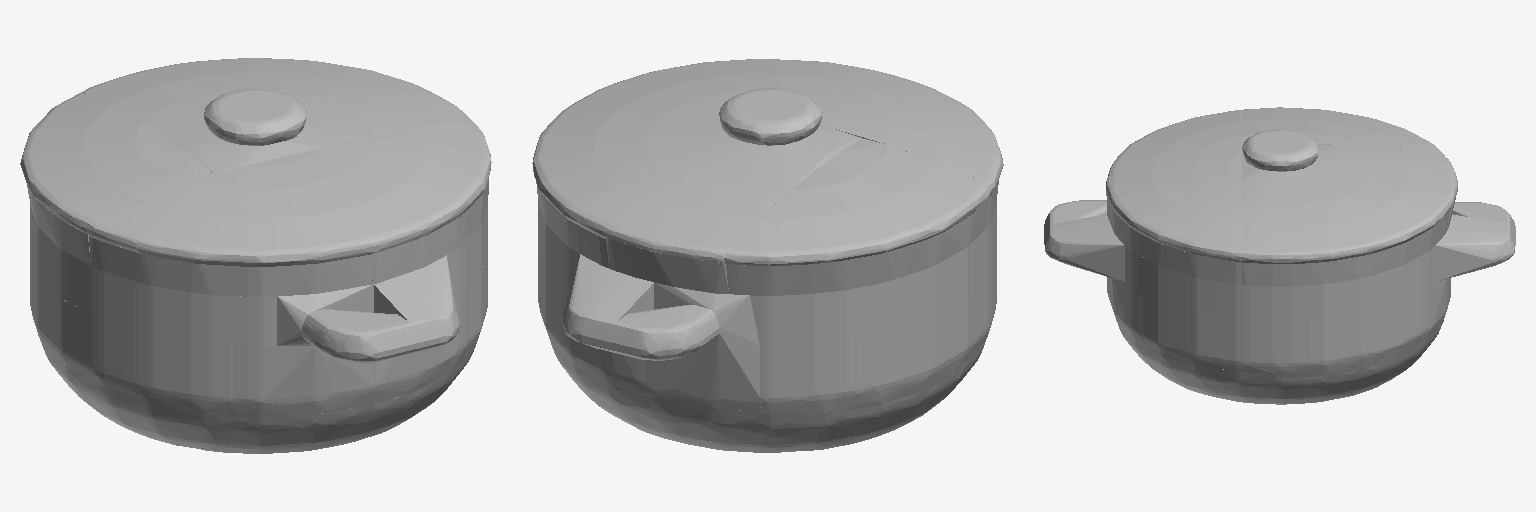
--- Facts derived from the render (not from the file) ---
Views: 3 orthographic renders of the robot side by side, from view 1: azimuth 30°, elevation 25°; view 2: azimuth 150°, elevation 25°; view 3: azimuth 270°, elevation 25°.
Model root with 44 links and 43 joints (43 fixed), rooted at link_coacd_convex_piece_0, posed all joints at 0.
Links seen in each view (by area): view 1: link_coacd_convex_piece_40, link_coacd_convex_piece_12, link_coacd_convex_piece_19, link_coacd_convex_piece_16, link_coacd_convex_piece_7, link_coacd_convex_piece_3, link_coacd_convex_piece_32, link_coacd_convex_piece_14, link_coacd_convex_piece_2, link_coacd_convex_piece_4, link_coacd_convex_piece_39, link_coacd_convex_piece_38 (+13 smaller); view 2: link_coacd_convex_piece_40, link_coacd_convex_piece_16, link_coacd_convex_piece_12, link_coacd_convex_piece_36, link_coacd_convex_piece_1, link_coacd_convex_piece_19, link_coacd_convex_piece_17, link_coacd_convex_piece_34, link_coacd_convex_piece_28, link_coacd_convex_piece_0, link_coacd_convex_piece_21, link_coacd_convex_piece_24 (+11 smaller); view 3: link_coacd_convex_piece_40, link_coacd_convex_piece_19, link_coacd_convex_piece_13, link_coacd_convex_piece_12, link_coacd_convex_piece_9, link_coacd_convex_piece_16, link_coacd_convex_piece_0, link_coacd_convex_piece_4, link_coacd_convex_piece_15, link_coacd_convex_piece_5, link_coacd_convex_piece_33, link_coacd_convex_piece_29 (+12 smaller).
Link boxes in pixels (x1,y1,x2,y2): link_coacd_convex_piece_40: (81, 58, 478, 174); link_coacd_convex_piece_12: (86, 157, 373, 266); link_coacd_convex_piece_19: (284, 127, 491, 253); link_coacd_convex_piece_16: (20, 93, 213, 233); link_coacd_convex_piece_7: (60, 298, 232, 411); link_coacd_convex_piece_3: (229, 345, 373, 416); link_coacd_convex_piece_32: (138, 282, 276, 345); link_coacd_convex_piece_14: (65, 366, 229, 448); link_coacd_convex_piece_2: (201, 405, 369, 453); link_coacd_convex_piece_4: (374, 255, 459, 353); link_coacd_convex_piece_39: (302, 309, 415, 362); link_coacd_convex_piece_38: (204, 89, 306, 145); link_coacd_convex_piece_40: (532, 89, 860, 262); link_coacd_convex_piece_16: (724, 138, 990, 265); link_coacd_convex_piece_12: (818, 73, 1003, 195); link_coacd_convex_piece_36: (645, 282, 761, 411); link_coacd_convex_piece_1: (846, 297, 965, 410); link_coacd_convex_piece_19: (599, 59, 882, 103); link_coacd_convex_piece_17: (647, 396, 847, 452); link_coacd_convex_piece_34: (750, 282, 885, 344); link_coacd_convex_piece_28: (760, 338, 853, 411); link_coacd_convex_piece_0: (562, 254, 653, 353); link_coacd_convex_piece_21: (726, 249, 898, 295); link_coacd_convex_piece_24: (611, 305, 719, 360); link_coacd_convex_piece_40: (1242, 144, 1457, 263); link_coacd_convex_piece_19: (1106, 167, 1241, 261); link_coacd_convex_piece_13: (1143, 295, 1279, 373); link_coacd_convex_piece_12: (1106, 110, 1241, 182); link_coacd_convex_piece_9: (1280, 310, 1379, 377); link_coacd_convex_piece_16: (1242, 107, 1444, 155); link_coacd_convex_piece_0: (1435, 214, 1515, 281); link_coacd_convex_piece_4: (1044, 214, 1124, 281); link_coacd_convex_piece_15: (1147, 346, 1279, 404); link_coacd_convex_piece_5: (1380, 278, 1450, 358); link_coacd_convex_piece_33: (1281, 277, 1367, 323); link_coacd_convex_piece_29: (1199, 279, 1280, 323).
Bounding box of the posed robot: 1.44 × 1.93 × 0.9341 m (x, y, z).
Meshes: 44 distinct files referenced, 44 mesh visuals loaded (44 OBJ).

robot.urdf — root:
<robot name="root">
  <link name="link_coacd_convex_piece_0">
    <inertial>
      <origin xyz="0 0 0" rpy="0 0 0"/>
      <inertia ixx="1.68E-03" ixy="-2.83E-04" ixz="-2.11E-05" iyy="7.98E-05" iyz="-1.17E-04" izz="1.73E-03"/>
    </inertial>
    <visual>
      <origin xyz="0 0 0" rpy="0 0 0"/>
      <geometry>
        <mesh filename="coacd_convex_piece_0.obj" scale="1.0000E+00 1.0000E+00 1.0000E+00"/>
      </geometry>
      <material name="">
        <color rgba="7.50E-01 7.50E-01 7.50E-01 1"/>
      </material>
    </visual>
    <collision>
      <origin xyz="0 0 0" rpy="0 0 0"/>
      <geometry>
        <mesh filename="coacd_convex_piece_0.obj" scale="1.0000E+00 1.0000E+00 1.0000E+00"/>
      </geometry>
    </collision>
  </link>
  <link name="link_coacd_convex_piece_1">
    <inertial>
      <origin xyz="0 0 0" rpy="0 0 0"/>
      <inertia ixx="2.07E-04" ixy="2.97E-04" ixz="-2.09E-04" iyy="8.99E-04" iyz="7.83E-05" izz="9.81E-04"/>
    </inertial>
    <visual>
      <origin xyz="0 0 0" rpy="0 0 0"/>
      <geometry>
        <mesh filename="coacd_convex_piece_1.obj" scale="1.0000E+00 1.0000E+00 1.0000E+00"/>
      </geometry>
      <material name="">
        <color rgba="7.50E-01 7.50E-01 7.50E-01 1"/>
      </material>
    </visual>
    <collision>
      <origin xyz="0 0 0" rpy="0 0 0"/>
      <geometry>
        <mesh filename="coacd_convex_piece_1.obj" scale="1.0000E+00 1.0000E+00 1.0000E+00"/>
      </geometry>
    </collision>
  </link>
  <joint name="link_coacd_convex_piece_1_joint" type="fixed">
    <origin xyz="0 0 0" rpy="0 0 0"/>
    <parent link="link_coacd_convex_piece_0"/>
    <child link="link_coacd_convex_piece_1"/>
  </joint>
  <link name="link_coacd_convex_piece_2">
    <inertial>
      <origin xyz="0 0 0" rpy="0 0 0"/>
      <inertia ixx="8.75E-04" ixy="-2.29E-04" ixz="-1.72E-04" iyy="4.23E-04" iyz="-4.02E-04" izz="7.09E-04"/>
    </inertial>
    <visual>
      <origin xyz="0 0 0" rpy="0 0 0"/>
      <geometry>
        <mesh filename="coacd_convex_piece_2.obj" scale="1.0000E+00 1.0000E+00 1.0000E+00"/>
      </geometry>
      <material name="">
        <color rgba="7.50E-01 7.50E-01 7.50E-01 1"/>
      </material>
    </visual>
    <collision>
      <origin xyz="0 0 0" rpy="0 0 0"/>
      <geometry>
        <mesh filename="coacd_convex_piece_2.obj" scale="1.0000E+00 1.0000E+00 1.0000E+00"/>
      </geometry>
    </collision>
  </link>
  <joint name="link_coacd_convex_piece_2_joint" type="fixed">
    <origin xyz="0 0 0" rpy="0 0 0"/>
    <parent link="link_coacd_convex_piece_1"/>
    <child link="link_coacd_convex_piece_2"/>
  </joint>
  <link name="link_coacd_convex_piece_3">
    <inertial>
      <origin xyz="0 0 0" rpy="0 0 0"/>
      <inertia ixx="8.59E-04" ixy="-2.71E-04" ixz="-6.80E-05" iyy="1.80E-04" iyz="-1.92E-04" izz="9.28E-04"/>
    </inertial>
    <visual>
      <origin xyz="0 0 0" rpy="0 0 0"/>
      <geometry>
        <mesh filename="coacd_convex_piece_3.obj" scale="1.0000E+00 1.0000E+00 1.0000E+00"/>
      </geometry>
      <material name="">
        <color rgba="7.50E-01 7.50E-01 7.50E-01 1"/>
      </material>
    </visual>
    <collision>
      <origin xyz="0 0 0" rpy="0 0 0"/>
      <geometry>
        <mesh filename="coacd_convex_piece_3.obj" scale="1.0000E+00 1.0000E+00 1.0000E+00"/>
      </geometry>
    </collision>
  </link>
  <joint name="link_coacd_convex_piece_3_joint" type="fixed">
    <origin xyz="0 0 0" rpy="0 0 0"/>
    <parent link="link_coacd_convex_piece_2"/>
    <child link="link_coacd_convex_piece_3"/>
  </joint>
  <link name="link_coacd_convex_piece_4">
    <inertial>
      <origin xyz="0 0 0" rpy="0 0 0"/>
      <inertia ixx="1.59E-03" ixy="2.61E-04" ixz="-1.98E-05" iyy="7.35E-05" iyz="1.13E-04" izz="1.64E-03"/>
    </inertial>
    <visual>
      <origin xyz="0 0 0" rpy="0 0 0"/>
      <geometry>
        <mesh filename="coacd_convex_piece_4.obj" scale="1.0000E+00 1.0000E+00 1.0000E+00"/>
      </geometry>
      <material name="">
        <color rgba="7.50E-01 7.50E-01 7.50E-01 1"/>
      </material>
    </visual>
    <collision>
      <origin xyz="0 0 0" rpy="0 0 0"/>
      <geometry>
        <mesh filename="coacd_convex_piece_4.obj" scale="1.0000E+00 1.0000E+00 1.0000E+00"/>
      </geometry>
    </collision>
  </link>
  <joint name="link_coacd_convex_piece_4_joint" type="fixed">
    <origin xyz="0 0 0" rpy="0 0 0"/>
    <parent link="link_coacd_convex_piece_3"/>
    <child link="link_coacd_convex_piece_4"/>
  </joint>
  <link name="link_coacd_convex_piece_5">
    <inertial>
      <origin xyz="0 0 0" rpy="0 0 0"/>
      <inertia ixx="1.00E-03" ixy="-4.60E-04" ixz="1.18E-04" iyy="3.70E-04" iyz="2.25E-04" izz="1.24E-03"/>
    </inertial>
    <visual>
      <origin xyz="0 0 0" rpy="0 0 0"/>
      <geometry>
        <mesh filename="coacd_convex_piece_5.obj" scale="1.0000E+00 1.0000E+00 1.0000E+00"/>
      </geometry>
      <material name="">
        <color rgba="7.50E-01 7.50E-01 7.50E-01 1"/>
      </material>
    </visual>
    <collision>
      <origin xyz="0 0 0" rpy="0 0 0"/>
      <geometry>
        <mesh filename="coacd_convex_piece_5.obj" scale="1.0000E+00 1.0000E+00 1.0000E+00"/>
      </geometry>
    </collision>
  </link>
  <joint name="link_coacd_convex_piece_5_joint" type="fixed">
    <origin xyz="0 0 0" rpy="0 0 0"/>
    <parent link="link_coacd_convex_piece_4"/>
    <child link="link_coacd_convex_piece_5"/>
  </joint>
  <link name="link_coacd_convex_piece_6">
    <inertial>
      <origin xyz="0 0 0" rpy="0 0 0"/>
      <inertia ixx="4.55E-04" ixy="2.44E-04" ixz="-4.14E-04" iyy="8.95E-04" iyz="1.89E-04" izz="7.29E-04"/>
    </inertial>
    <visual>
      <origin xyz="0 0 0" rpy="0 0 0"/>
      <geometry>
        <mesh filename="coacd_convex_piece_6.obj" scale="1.0000E+00 1.0000E+00 1.0000E+00"/>
      </geometry>
      <material name="">
        <color rgba="7.50E-01 7.50E-01 7.50E-01 1"/>
      </material>
    </visual>
    <collision>
      <origin xyz="0 0 0" rpy="0 0 0"/>
      <geometry>
        <mesh filename="coacd_convex_piece_6.obj" scale="1.0000E+00 1.0000E+00 1.0000E+00"/>
      </geometry>
    </collision>
  </link>
  <joint name="link_coacd_convex_piece_6_joint" type="fixed">
    <origin xyz="0 0 0" rpy="0 0 0"/>
    <parent link="link_coacd_convex_piece_5"/>
    <child link="link_coacd_convex_piece_6"/>
  </joint>
  <link name="link_coacd_convex_piece_7">
    <inertial>
      <origin xyz="0 0 0" rpy="0 0 0"/>
      <inertia ixx="3.55E-04" ixy="-4.47E-04" ixz="-2.38E-04" iyy="1.06E-03" iyz="-1.14E-04" izz="1.28E-03"/>
    </inertial>
    <visual>
      <origin xyz="0 0 0" rpy="0 0 0"/>
      <geometry>
        <mesh filename="coacd_convex_piece_7.obj" scale="1.0000E+00 1.0000E+00 1.0000E+00"/>
      </geometry>
      <material name="">
        <color rgba="7.50E-01 7.50E-01 7.50E-01 1"/>
      </material>
    </visual>
    <collision>
      <origin xyz="0 0 0" rpy="0 0 0"/>
      <geometry>
        <mesh filename="coacd_convex_piece_7.obj" scale="1.0000E+00 1.0000E+00 1.0000E+00"/>
      </geometry>
    </collision>
  </link>
  <joint name="link_coacd_convex_piece_7_joint" type="fixed">
    <origin xyz="0 0 0" rpy="0 0 0"/>
    <parent link="link_coacd_convex_piece_6"/>
    <child link="link_coacd_convex_piece_7"/>
  </joint>
  <link name="link_coacd_convex_piece_8">
    <inertial>
      <origin xyz="0 0 0" rpy="0 0 0"/>
      <inertia ixx="8.73E-04" ixy="2.79E-04" ixz="7.16E-05" iyy="1.88E-04" iyz="-1.99E-04" izz="9.44E-04"/>
    </inertial>
    <visual>
      <origin xyz="0 0 0" rpy="0 0 0"/>
      <geometry>
        <mesh filename="coacd_convex_piece_8.obj" scale="1.0000E+00 1.0000E+00 1.0000E+00"/>
      </geometry>
      <material name="">
        <color rgba="7.50E-01 7.50E-01 7.50E-01 1"/>
      </material>
    </visual>
    <collision>
      <origin xyz="0 0 0" rpy="0 0 0"/>
      <geometry>
        <mesh filename="coacd_convex_piece_8.obj" scale="1.0000E+00 1.0000E+00 1.0000E+00"/>
      </geometry>
    </collision>
  </link>
  <joint name="link_coacd_convex_piece_8_joint" type="fixed">
    <origin xyz="0 0 0" rpy="0 0 0"/>
    <parent link="link_coacd_convex_piece_7"/>
    <child link="link_coacd_convex_piece_8"/>
  </joint>
  <link name="link_coacd_convex_piece_9">
    <inertial>
      <origin xyz="0 0 0" rpy="0 0 0"/>
      <inertia ixx="1.76E-04" ixy="-2.61E-04" ixz="1.94E-04" iyy="8.35E-04" iyz="6.78E-05" izz="8.96E-04"/>
    </inertial>
    <visual>
      <origin xyz="0 0 0" rpy="0 0 0"/>
      <geometry>
        <mesh filename="coacd_convex_piece_9.obj" scale="1.0000E+00 1.0000E+00 1.0000E+00"/>
      </geometry>
      <material name="">
        <color rgba="7.50E-01 7.50E-01 7.50E-01 1"/>
      </material>
    </visual>
    <collision>
      <origin xyz="0 0 0" rpy="0 0 0"/>
      <geometry>
        <mesh filename="coacd_convex_piece_9.obj" scale="1.0000E+00 1.0000E+00 1.0000E+00"/>
      </geometry>
    </collision>
  </link>
  <joint name="link_coacd_convex_piece_9_joint" type="fixed">
    <origin xyz="0 0 0" rpy="0 0 0"/>
    <parent link="link_coacd_convex_piece_8"/>
    <child link="link_coacd_convex_piece_9"/>
  </joint>
  <link name="link_coacd_convex_piece_10">
    <inertial>
      <origin xyz="0 0 0" rpy="0 0 0"/>
      <inertia ixx="8.68E-04" ixy="2.31E-04" ixz="1.75E-04" iyy="4.25E-04" iyz="-3.99E-04" izz="7.04E-04"/>
    </inertial>
    <visual>
      <origin xyz="0 0 0" rpy="0 0 0"/>
      <geometry>
        <mesh filename="coacd_convex_piece_10.obj" scale="1.0000E+00 1.0000E+00 1.0000E+00"/>
      </geometry>
      <material name="">
        <color rgba="7.50E-01 7.50E-01 7.50E-01 1"/>
      </material>
    </visual>
    <collision>
      <origin xyz="0 0 0" rpy="0 0 0"/>
      <geometry>
        <mesh filename="coacd_convex_piece_10.obj" scale="1.0000E+00 1.0000E+00 1.0000E+00"/>
      </geometry>
    </collision>
  </link>
  <joint name="link_coacd_convex_piece_10_joint" type="fixed">
    <origin xyz="0 0 0" rpy="0 0 0"/>
    <parent link="link_coacd_convex_piece_9"/>
    <child link="link_coacd_convex_piece_10"/>
  </joint>
  <link name="link_coacd_convex_piece_11">
    <inertial>
      <origin xyz="0 0 0" rpy="0 0 0"/>
      <inertia ixx="8.60E-04" ixy="-2.73E-04" ixz="1.84E-04" iyy="4.26E-04" iyz="3.86E-04" izz="7.68E-04"/>
    </inertial>
    <visual>
      <origin xyz="0 0 0" rpy="0 0 0"/>
      <geometry>
        <mesh filename="coacd_convex_piece_11.obj" scale="1.0000E+00 1.0000E+00 1.0000E+00"/>
      </geometry>
      <material name="">
        <color rgba="7.50E-01 7.50E-01 7.50E-01 1"/>
      </material>
    </visual>
    <collision>
      <origin xyz="0 0 0" rpy="0 0 0"/>
      <geometry>
        <mesh filename="coacd_convex_piece_11.obj" scale="1.0000E+00 1.0000E+00 1.0000E+00"/>
      </geometry>
    </collision>
  </link>
  <joint name="link_coacd_convex_piece_11_joint" type="fixed">
    <origin xyz="0 0 0" rpy="0 0 0"/>
    <parent link="link_coacd_convex_piece_10"/>
    <child link="link_coacd_convex_piece_11"/>
  </joint>
  <link name="link_coacd_convex_piece_12">
    <inertial>
      <origin xyz="0 0 0" rpy="0 0 0"/>
      <inertia ixx="1.11E-03" ixy="-4.45E-04" ixz="3.64E-04" iyy="8.69E-04" iyz="4.91E-04" izz="1.23E-03"/>
    </inertial>
    <visual>
      <origin xyz="0 0 0" rpy="0 0 0"/>
      <geometry>
        <mesh filename="coacd_convex_piece_12.obj" scale="1.0000E+00 1.0000E+00 1.0000E+00"/>
      </geometry>
      <material name="">
        <color rgba="7.50E-01 7.50E-01 7.50E-01 1"/>
      </material>
    </visual>
    <collision>
      <origin xyz="0 0 0" rpy="0 0 0"/>
      <geometry>
        <mesh filename="coacd_convex_piece_12.obj" scale="1.0000E+00 1.0000E+00 1.0000E+00"/>
      </geometry>
    </collision>
  </link>
  <joint name="link_coacd_convex_piece_12_joint" type="fixed">
    <origin xyz="0 0 0" rpy="0 0 0"/>
    <parent link="link_coacd_convex_piece_11"/>
    <child link="link_coacd_convex_piece_12"/>
  </joint>
  <link name="link_coacd_convex_piece_13">
    <inertial>
      <origin xyz="0 0 0" rpy="0 0 0"/>
      <inertia ixx="3.55E-04" ixy="4.49E-04" ixz="2.38E-04" iyy="1.07E-03" iyz="-1.14E-04" izz="1.29E-03"/>
    </inertial>
    <visual>
      <origin xyz="0 0 0" rpy="0 0 0"/>
      <geometry>
        <mesh filename="coacd_convex_piece_13.obj" scale="1.0000E+00 1.0000E+00 1.0000E+00"/>
      </geometry>
      <material name="">
        <color rgba="7.50E-01 7.50E-01 7.50E-01 1"/>
      </material>
    </visual>
    <collision>
      <origin xyz="0 0 0" rpy="0 0 0"/>
      <geometry>
        <mesh filename="coacd_convex_piece_13.obj" scale="1.0000E+00 1.0000E+00 1.0000E+00"/>
      </geometry>
    </collision>
  </link>
  <joint name="link_coacd_convex_piece_13_joint" type="fixed">
    <origin xyz="0 0 0" rpy="0 0 0"/>
    <parent link="link_coacd_convex_piece_12"/>
    <child link="link_coacd_convex_piece_13"/>
  </joint>
  <link name="link_coacd_convex_piece_14">
    <inertial>
      <origin xyz="0 0 0" rpy="0 0 0"/>
      <inertia ixx="4.28E-04" ixy="-2.64E-04" ixz="-4.12E-04" iyy="9.22E-04" iyz="-1.75E-04" izz="8.02E-04"/>
    </inertial>
    <visual>
      <origin xyz="0 0 0" rpy="0 0 0"/>
      <geometry>
        <mesh filename="coacd_convex_piece_14.obj" scale="1.0000E+00 1.0000E+00 1.0000E+00"/>
      </geometry>
      <material name="">
        <color rgba="7.50E-01 7.50E-01 7.50E-01 1"/>
      </material>
    </visual>
    <collision>
      <origin xyz="0 0 0" rpy="0 0 0"/>
      <geometry>
        <mesh filename="coacd_convex_piece_14.obj" scale="1.0000E+00 1.0000E+00 1.0000E+00"/>
      </geometry>
    </collision>
  </link>
  <joint name="link_coacd_convex_piece_14_joint" type="fixed">
    <origin xyz="0 0 0" rpy="0 0 0"/>
    <parent link="link_coacd_convex_piece_13"/>
    <child link="link_coacd_convex_piece_14"/>
  </joint>
  <link name="link_coacd_convex_piece_15">
    <inertial>
      <origin xyz="0 0 0" rpy="0 0 0"/>
      <inertia ixx="4.31E-04" ixy="2.67E-04" ixz="4.18E-04" iyy="9.37E-04" iyz="-1.76E-04" izz="8.15E-04"/>
    </inertial>
    <visual>
      <origin xyz="0 0 0" rpy="0 0 0"/>
      <geometry>
        <mesh filename="coacd_convex_piece_15.obj" scale="1.0000E+00 1.0000E+00 1.0000E+00"/>
      </geometry>
      <material name="">
        <color rgba="7.50E-01 7.50E-01 7.50E-01 1"/>
      </material>
    </visual>
    <collision>
      <origin xyz="0 0 0" rpy="0 0 0"/>
      <geometry>
        <mesh filename="coacd_convex_piece_15.obj" scale="1.0000E+00 1.0000E+00 1.0000E+00"/>
      </geometry>
    </collision>
  </link>
  <joint name="link_coacd_convex_piece_15_joint" type="fixed">
    <origin xyz="0 0 0" rpy="0 0 0"/>
    <parent link="link_coacd_convex_piece_14"/>
    <child link="link_coacd_convex_piece_15"/>
  </joint>
  <link name="link_coacd_convex_piece_16">
    <inertial>
      <origin xyz="0 0 0" rpy="0 0 0"/>
      <inertia ixx="7.52E-04" ixy="3.52E-04" ixz="5.85E-04" iyy="1.34E-03" iyz="-2.53E-04" izz="1.31E-03"/>
    </inertial>
    <visual>
      <origin xyz="0 0 0" rpy="0 0 0"/>
      <geometry>
        <mesh filename="coacd_convex_piece_16.obj" scale="1.0000E+00 1.0000E+00 1.0000E+00"/>
      </geometry>
      <material name="">
        <color rgba="7.50E-01 7.50E-01 7.50E-01 1"/>
      </material>
    </visual>
    <collision>
      <origin xyz="0 0 0" rpy="0 0 0"/>
      <geometry>
        <mesh filename="coacd_convex_piece_16.obj" scale="1.0000E+00 1.0000E+00 1.0000E+00"/>
      </geometry>
    </collision>
  </link>
  <joint name="link_coacd_convex_piece_16_joint" type="fixed">
    <origin xyz="0 0 0" rpy="0 0 0"/>
    <parent link="link_coacd_convex_piece_15"/>
    <child link="link_coacd_convex_piece_16"/>
  </joint>
  <link name="link_coacd_convex_piece_17">
    <inertial>
      <origin xyz="0 0 0" rpy="0 0 0"/>
      <inertia ixx="1.00E-03" ixy="2.52E-04" ixz="-1.64E-04" iyy="4.30E-04" iyz="4.46E-04" izz="8.52E-04"/>
    </inertial>
    <visual>
      <origin xyz="0 0 0" rpy="0 0 0"/>
      <geometry>
        <mesh filename="coacd_convex_piece_17.obj" scale="1.0000E+00 1.0000E+00 1.0000E+00"/>
      </geometry>
      <material name="">
        <color rgba="7.50E-01 7.50E-01 7.50E-01 1"/>
      </material>
    </visual>
    <collision>
      <origin xyz="0 0 0" rpy="0 0 0"/>
      <geometry>
        <mesh filename="coacd_convex_piece_17.obj" scale="1.0000E+00 1.0000E+00 1.0000E+00"/>
      </geometry>
    </collision>
  </link>
  <joint name="link_coacd_convex_piece_17_joint" type="fixed">
    <origin xyz="0 0 0" rpy="0 0 0"/>
    <parent link="link_coacd_convex_piece_16"/>
    <child link="link_coacd_convex_piece_17"/>
  </joint>
  <link name="link_coacd_convex_piece_18">
    <inertial>
      <origin xyz="0 0 0" rpy="0 0 0"/>
      <inertia ixx="3.93E-04" ixy="-2.13E-04" ixz="3.80E-04" iyy="8.27E-04" iyz="1.59E-04" izz="6.65E-04"/>
    </inertial>
    <visual>
      <origin xyz="0 0 0" rpy="0 0 0"/>
      <geometry>
        <mesh filename="coacd_convex_piece_18.obj" scale="1.0000E+00 1.0000E+00 1.0000E+00"/>
      </geometry>
      <material name="">
        <color rgba="7.50E-01 7.50E-01 7.50E-01 1"/>
      </material>
    </visual>
    <collision>
      <origin xyz="0 0 0" rpy="0 0 0"/>
      <geometry>
        <mesh filename="coacd_convex_piece_18.obj" scale="1.0000E+00 1.0000E+00 1.0000E+00"/>
      </geometry>
    </collision>
  </link>
  <joint name="link_coacd_convex_piece_18_joint" type="fixed">
    <origin xyz="0 0 0" rpy="0 0 0"/>
    <parent link="link_coacd_convex_piece_17"/>
    <child link="link_coacd_convex_piece_18"/>
  </joint>
  <link name="link_coacd_convex_piece_19">
    <inertial>
      <origin xyz="0 0 0" rpy="0 0 0"/>
      <inertia ixx="1.09E-03" ixy="4.30E-04" ixz="-3.53E-04" iyy="8.46E-04" iyz="4.83E-04" izz="1.19E-03"/>
    </inertial>
    <visual>
      <origin xyz="0 0 0" rpy="0 0 0"/>
      <geometry>
        <mesh filename="coacd_convex_piece_19.obj" scale="1.0000E+00 1.0000E+00 1.0000E+00"/>
      </geometry>
      <material name="">
        <color rgba="7.50E-01 7.50E-01 7.50E-01 1"/>
      </material>
    </visual>
    <collision>
      <origin xyz="0 0 0" rpy="0 0 0"/>
      <geometry>
        <mesh filename="coacd_convex_piece_19.obj" scale="1.0000E+00 1.0000E+00 1.0000E+00"/>
      </geometry>
    </collision>
  </link>
  <joint name="link_coacd_convex_piece_19_joint" type="fixed">
    <origin xyz="0 0 0" rpy="0 0 0"/>
    <parent link="link_coacd_convex_piece_18"/>
    <child link="link_coacd_convex_piece_19"/>
  </joint>
  <link name="link_coacd_convex_piece_20">
    <inertial>
      <origin xyz="0 0 0" rpy="0 0 0"/>
      <inertia ixx="2.19E-04" ixy="-1.87E-04" ixz="-2.36E-05" iyy="1.83E-04" iyz="-2.59E-05" izz="3.93E-04"/>
    </inertial>
    <visual>
      <origin xyz="0 0 0" rpy="0 0 0"/>
      <geometry>
        <mesh filename="coacd_convex_piece_20.obj" scale="1.0000E+00 1.0000E+00 1.0000E+00"/>
      </geometry>
      <material name="">
        <color rgba="7.50E-01 7.50E-01 7.50E-01 1"/>
      </material>
    </visual>
    <collision>
      <origin xyz="0 0 0" rpy="0 0 0"/>
      <geometry>
        <mesh filename="coacd_convex_piece_20.obj" scale="1.0000E+00 1.0000E+00 1.0000E+00"/>
      </geometry>
    </collision>
  </link>
  <joint name="link_coacd_convex_piece_20_joint" type="fixed">
    <origin xyz="0 0 0" rpy="0 0 0"/>
    <parent link="link_coacd_convex_piece_19"/>
    <child link="link_coacd_convex_piece_20"/>
  </joint>
  <link name="link_coacd_convex_piece_21">
    <inertial>
      <origin xyz="0 0 0" rpy="0 0 0"/>
      <inertia ixx="3.13E-04" ixy="2.20E-04" ixz="9.39E-05" iyy="2.56E-04" iyz="-1.07E-04" izz="4.81E-04"/>
    </inertial>
    <visual>
      <origin xyz="0 0 0" rpy="0 0 0"/>
      <geometry>
        <mesh filename="coacd_convex_piece_21.obj" scale="1.0000E+00 1.0000E+00 1.0000E+00"/>
      </geometry>
      <material name="">
        <color rgba="7.50E-01 7.50E-01 7.50E-01 1"/>
      </material>
    </visual>
    <collision>
      <origin xyz="0 0 0" rpy="0 0 0"/>
      <geometry>
        <mesh filename="coacd_convex_piece_21.obj" scale="1.0000E+00 1.0000E+00 1.0000E+00"/>
      </geometry>
    </collision>
  </link>
  <joint name="link_coacd_convex_piece_21_joint" type="fixed">
    <origin xyz="0 0 0" rpy="0 0 0"/>
    <parent link="link_coacd_convex_piece_20"/>
    <child link="link_coacd_convex_piece_21"/>
  </joint>
  <link name="link_coacd_convex_piece_22">
    <inertial>
      <origin xyz="0 0 0" rpy="0 0 0"/>
      <inertia ixx="2.32E-04" ixy="2.03E-04" ixz="-2.63E-05" iyy="2.07E-04" iyz="2.80E-05" izz="4.29E-04"/>
    </inertial>
    <visual>
      <origin xyz="0 0 0" rpy="0 0 0"/>
      <geometry>
        <mesh filename="coacd_convex_piece_22.obj" scale="1.0000E+00 1.0000E+00 1.0000E+00"/>
      </geometry>
      <material name="">
        <color rgba="7.50E-01 7.50E-01 7.50E-01 1"/>
      </material>
    </visual>
    <collision>
      <origin xyz="0 0 0" rpy="0 0 0"/>
      <geometry>
        <mesh filename="coacd_convex_piece_22.obj" scale="1.0000E+00 1.0000E+00 1.0000E+00"/>
      </geometry>
    </collision>
  </link>
  <joint name="link_coacd_convex_piece_22_joint" type="fixed">
    <origin xyz="0 0 0" rpy="0 0 0"/>
    <parent link="link_coacd_convex_piece_21"/>
    <child link="link_coacd_convex_piece_22"/>
  </joint>
  <link name="link_coacd_convex_piece_23">
    <inertial>
      <origin xyz="0 0 0" rpy="0 0 0"/>
      <inertia ixx="1.60E-04" ixy="1.69E-04" ixz="-9.64E-05" iyy="3.05E-04" iyz="6.35E-05" izz="3.95E-04"/>
    </inertial>
    <visual>
      <origin xyz="0 0 0" rpy="0 0 0"/>
      <geometry>
        <mesh filename="coacd_convex_piece_23.obj" scale="1.0000E+00 1.0000E+00 1.0000E+00"/>
      </geometry>
      <material name="">
        <color rgba="7.50E-01 7.50E-01 7.50E-01 1"/>
      </material>
    </visual>
    <collision>
      <origin xyz="0 0 0" rpy="0 0 0"/>
      <geometry>
        <mesh filename="coacd_convex_piece_23.obj" scale="1.0000E+00 1.0000E+00 1.0000E+00"/>
      </geometry>
    </collision>
  </link>
  <joint name="link_coacd_convex_piece_23_joint" type="fixed">
    <origin xyz="0 0 0" rpy="0 0 0"/>
    <parent link="link_coacd_convex_piece_22"/>
    <child link="link_coacd_convex_piece_23"/>
  </joint>
  <link name="link_coacd_convex_piece_24">
    <inertial>
      <origin xyz="0 0 0" rpy="0 0 0"/>
      <inertia ixx="8.73E-04" ixy="1.16E-04" ixz="6.59E-06" iyy="2.33E-05" iyz="-4.75E-05" izz="8.91E-04"/>
    </inertial>
    <visual>
      <origin xyz="0 0 0" rpy="0 0 0"/>
      <geometry>
        <mesh filename="coacd_convex_piece_24.obj" scale="1.0000E+00 1.0000E+00 1.0000E+00"/>
      </geometry>
      <material name="">
        <color rgba="7.50E-01 7.50E-01 7.50E-01 1"/>
      </material>
    </visual>
    <collision>
      <origin xyz="0 0 0" rpy="0 0 0"/>
      <geometry>
        <mesh filename="coacd_convex_piece_24.obj" scale="1.0000E+00 1.0000E+00 1.0000E+00"/>
      </geometry>
    </collision>
  </link>
  <joint name="link_coacd_convex_piece_24_joint" type="fixed">
    <origin xyz="0 0 0" rpy="0 0 0"/>
    <parent link="link_coacd_convex_piece_23"/>
    <child link="link_coacd_convex_piece_24"/>
  </joint>
  <link name="link_coacd_convex_piece_25">
    <inertial>
      <origin xyz="0 0 0" rpy="0 0 0"/>
      <inertia ixx="2.84E-05" ixy="-7.27E-05" ixz="2.48E-05" iyy="2.64E-04" iyz="7.09E-06" izz="2.86E-04"/>
    </inertial>
    <visual>
      <origin xyz="0 0 0" rpy="0 0 0"/>
      <geometry>
        <mesh filename="coacd_convex_piece_25.obj" scale="1.0000E+00 1.0000E+00 1.0000E+00"/>
      </geometry>
      <material name="">
        <color rgba="7.50E-01 7.50E-01 7.50E-01 1"/>
      </material>
    </visual>
    <collision>
      <origin xyz="0 0 0" rpy="0 0 0"/>
      <geometry>
        <mesh filename="coacd_convex_piece_25.obj" scale="1.0000E+00 1.0000E+00 1.0000E+00"/>
      </geometry>
    </collision>
  </link>
  <joint name="link_coacd_convex_piece_25_joint" type="fixed">
    <origin xyz="0 0 0" rpy="0 0 0"/>
    <parent link="link_coacd_convex_piece_24"/>
    <child link="link_coacd_convex_piece_25"/>
  </joint>
  <link name="link_coacd_convex_piece_26">
    <inertial>
      <origin xyz="0 0 0" rpy="0 0 0"/>
      <inertia ixx="3.47E-05" ixy="8.66E-05" ixz="3.44E-05" iyy="3.68E-04" iyz="-8.33E-06" izz="3.93E-04"/>
    </inertial>
    <visual>
      <origin xyz="0 0 0" rpy="0 0 0"/>
      <geometry>
        <mesh filename="coacd_convex_piece_26.obj" scale="1.0000E+00 1.0000E+00 1.0000E+00"/>
      </geometry>
      <material name="">
        <color rgba="7.50E-01 7.50E-01 7.50E-01 1"/>
      </material>
    </visual>
    <collision>
      <origin xyz="0 0 0" rpy="0 0 0"/>
      <geometry>
        <mesh filename="coacd_convex_piece_26.obj" scale="1.0000E+00 1.0000E+00 1.0000E+00"/>
      </geometry>
    </collision>
  </link>
  <joint name="link_coacd_convex_piece_26_joint" type="fixed">
    <origin xyz="0 0 0" rpy="0 0 0"/>
    <parent link="link_coacd_convex_piece_25"/>
    <child link="link_coacd_convex_piece_26"/>
  </joint>
  <link name="link_coacd_convex_piece_27">
    <inertial>
      <origin xyz="0 0 0" rpy="0 0 0"/>
      <inertia ixx="3.08E-04" ixy="-8.77E-05" ixz="2.86E-05" iyy="6.48E-05" iyz="8.84E-05" izz="3.17E-04"/>
    </inertial>
    <visual>
      <origin xyz="0 0 0" rpy="0 0 0"/>
      <geometry>
        <mesh filename="coacd_convex_piece_27.obj" scale="1.0000E+00 1.0000E+00 1.0000E+00"/>
      </geometry>
      <material name="">
        <color rgba="7.50E-01 7.50E-01 7.50E-01 1"/>
      </material>
    </visual>
    <collision>
      <origin xyz="0 0 0" rpy="0 0 0"/>
      <geometry>
        <mesh filename="coacd_convex_piece_27.obj" scale="1.0000E+00 1.0000E+00 1.0000E+00"/>
      </geometry>
    </collision>
  </link>
  <joint name="link_coacd_convex_piece_27_joint" type="fixed">
    <origin xyz="0 0 0" rpy="0 0 0"/>
    <parent link="link_coacd_convex_piece_26"/>
    <child link="link_coacd_convex_piece_27"/>
  </joint>
  <link name="link_coacd_convex_piece_28">
    <inertial>
      <origin xyz="0 0 0" rpy="0 0 0"/>
      <inertia ixx="2.17E-04" ixy="1.62E-04" ixz="-4.42E-05" iyy="1.55E-04" iyz="5.36E-05" izz="3.39E-04"/>
    </inertial>
    <visual>
      <origin xyz="0 0 0" rpy="0 0 0"/>
      <geometry>
        <mesh filename="coacd_convex_piece_28.obj" scale="1.0000E+00 1.0000E+00 1.0000E+00"/>
      </geometry>
      <material name="">
        <color rgba="7.50E-01 7.50E-01 7.50E-01 1"/>
      </material>
    </visual>
    <collision>
      <origin xyz="0 0 0" rpy="0 0 0"/>
      <geometry>
        <mesh filename="coacd_convex_piece_28.obj" scale="1.0000E+00 1.0000E+00 1.0000E+00"/>
      </geometry>
    </collision>
  </link>
  <joint name="link_coacd_convex_piece_28_joint" type="fixed">
    <origin xyz="0 0 0" rpy="0 0 0"/>
    <parent link="link_coacd_convex_piece_27"/>
    <child link="link_coacd_convex_piece_28"/>
  </joint>
  <link name="link_coacd_convex_piece_29">
    <inertial>
      <origin xyz="0 0 0" rpy="0 0 0"/>
      <inertia ixx="3.00E-05" ixy="7.69E-05" ixz="-2.82E-05" iyy="3.04E-04" iyz="7.47E-06" izz="3.27E-04"/>
    </inertial>
    <visual>
      <origin xyz="0 0 0" rpy="0 0 0"/>
      <geometry>
        <mesh filename="coacd_convex_piece_29.obj" scale="1.0000E+00 1.0000E+00 1.0000E+00"/>
      </geometry>
      <material name="">
        <color rgba="7.50E-01 7.50E-01 7.50E-01 1"/>
      </material>
    </visual>
    <collision>
      <origin xyz="0 0 0" rpy="0 0 0"/>
      <geometry>
        <mesh filename="coacd_convex_piece_29.obj" scale="1.0000E+00 1.0000E+00 1.0000E+00"/>
      </geometry>
    </collision>
  </link>
  <joint name="link_coacd_convex_piece_29_joint" type="fixed">
    <origin xyz="0 0 0" rpy="0 0 0"/>
    <parent link="link_coacd_convex_piece_28"/>
    <child link="link_coacd_convex_piece_29"/>
  </joint>
  <link name="link_coacd_convex_piece_30">
    <inertial>
      <origin xyz="0 0 0" rpy="0 0 0"/>
      <inertia ixx="3.82E-04" ixy="-9.14E-05" ixz="8.28E-06" iyy="3.22E-05" iyz="3.39E-05" izz="4.06E-04"/>
    </inertial>
    <visual>
      <origin xyz="0 0 0" rpy="0 0 0"/>
      <geometry>
        <mesh filename="coacd_convex_piece_30.obj" scale="1.0000E+00 1.0000E+00 1.0000E+00"/>
      </geometry>
      <material name="">
        <color rgba="7.50E-01 7.50E-01 7.50E-01 1"/>
      </material>
    </visual>
    <collision>
      <origin xyz="0 0 0" rpy="0 0 0"/>
      <geometry>
        <mesh filename="coacd_convex_piece_30.obj" scale="1.0000E+00 1.0000E+00 1.0000E+00"/>
      </geometry>
    </collision>
  </link>
  <joint name="link_coacd_convex_piece_30_joint" type="fixed">
    <origin xyz="0 0 0" rpy="0 0 0"/>
    <parent link="link_coacd_convex_piece_29"/>
    <child link="link_coacd_convex_piece_30"/>
  </joint>
  <link name="link_coacd_convex_piece_31">
    <inertial>
      <origin xyz="0 0 0" rpy="0 0 0"/>
      <inertia ixx="3.57E-04" ixy="1.06E-04" ixz="-3.50E-05" iyy="8.04E-05" iyz="1.04E-04" izz="3.71E-04"/>
    </inertial>
    <visual>
      <origin xyz="0 0 0" rpy="0 0 0"/>
      <geometry>
        <mesh filename="coacd_convex_piece_31.obj" scale="1.0000E+00 1.0000E+00 1.0000E+00"/>
      </geometry>
      <material name="">
        <color rgba="7.50E-01 7.50E-01 7.50E-01 1"/>
      </material>
    </visual>
    <collision>
      <origin xyz="0 0 0" rpy="0 0 0"/>
      <geometry>
        <mesh filename="coacd_convex_piece_31.obj" scale="1.0000E+00 1.0000E+00 1.0000E+00"/>
      </geometry>
    </collision>
  </link>
  <joint name="link_coacd_convex_piece_31_joint" type="fixed">
    <origin xyz="0 0 0" rpy="0 0 0"/>
    <parent link="link_coacd_convex_piece_30"/>
    <child link="link_coacd_convex_piece_31"/>
  </joint>
  <link name="link_coacd_convex_piece_32">
    <inertial>
      <origin xyz="0 0 0" rpy="0 0 0"/>
      <inertia ixx="2.30E-04" ixy="-2.01E-04" ixz="2.62E-05" iyy="2.05E-04" iyz="2.79E-05" izz="4.25E-04"/>
    </inertial>
    <visual>
      <origin xyz="0 0 0" rpy="0 0 0"/>
      <geometry>
        <mesh filename="coacd_convex_piece_32.obj" scale="1.0000E+00 1.0000E+00 1.0000E+00"/>
      </geometry>
      <material name="">
        <color rgba="7.50E-01 7.50E-01 7.50E-01 1"/>
      </material>
    </visual>
    <collision>
      <origin xyz="0 0 0" rpy="0 0 0"/>
      <geometry>
        <mesh filename="coacd_convex_piece_32.obj" scale="1.0000E+00 1.0000E+00 1.0000E+00"/>
      </geometry>
    </collision>
  </link>
  <joint name="link_coacd_convex_piece_32_joint" type="fixed">
    <origin xyz="0 0 0" rpy="0 0 0"/>
    <parent link="link_coacd_convex_piece_31"/>
    <child link="link_coacd_convex_piece_32"/>
  </joint>
  <link name="link_coacd_convex_piece_33">
    <inertial>
      <origin xyz="0 0 0" rpy="0 0 0"/>
      <inertia ixx="4.07E-05" ixy="-9.64E-05" ixz="-3.18E-05" iyy="3.39E-04" iyz="-9.32E-06" izz="3.71E-04"/>
    </inertial>
    <visual>
      <origin xyz="0 0 0" rpy="0 0 0"/>
      <geometry>
        <mesh filename="coacd_convex_piece_33.obj" scale="1.0000E+00 1.0000E+00 1.0000E+00"/>
      </geometry>
      <material name="">
        <color rgba="7.50E-01 7.50E-01 7.50E-01 1"/>
      </material>
    </visual>
    <collision>
      <origin xyz="0 0 0" rpy="0 0 0"/>
      <geometry>
        <mesh filename="coacd_convex_piece_33.obj" scale="1.0000E+00 1.0000E+00 1.0000E+00"/>
      </geometry>
    </collision>
  </link>
  <joint name="link_coacd_convex_piece_33_joint" type="fixed">
    <origin xyz="0 0 0" rpy="0 0 0"/>
    <parent link="link_coacd_convex_piece_32"/>
    <child link="link_coacd_convex_piece_33"/>
  </joint>
  <link name="link_coacd_convex_piece_34">
    <inertial>
      <origin xyz="0 0 0" rpy="0 0 0"/>
      <inertia ixx="2.28E-04" ixy="1.98E-04" ixz="2.56E-05" iyy="1.99E-04" iyz="-2.74E-05" izz="4.18E-04"/>
    </inertial>
    <visual>
      <origin xyz="0 0 0" rpy="0 0 0"/>
      <geometry>
        <mesh filename="coacd_convex_piece_34.obj" scale="1.0000E+00 1.0000E+00 1.0000E+00"/>
      </geometry>
      <material name="">
        <color rgba="7.50E-01 7.50E-01 7.50E-01 1"/>
      </material>
    </visual>
    <collision>
      <origin xyz="0 0 0" rpy="0 0 0"/>
      <geometry>
        <mesh filename="coacd_convex_piece_34.obj" scale="1.0000E+00 1.0000E+00 1.0000E+00"/>
      </geometry>
    </collision>
  </link>
  <joint name="link_coacd_convex_piece_34_joint" type="fixed">
    <origin xyz="0 0 0" rpy="0 0 0"/>
    <parent link="link_coacd_convex_piece_33"/>
    <child link="link_coacd_convex_piece_34"/>
  </joint>
  <link name="link_coacd_convex_piece_35">
    <inertial>
      <origin xyz="0 0 0" rpy="0 0 0"/>
      <inertia ixx="6.46E-05" ixy="5.38E-05" ixz="1.33E-04" iyy="4.71E-04" iyz="-1.72E-05" izz="4.53E-04"/>
    </inertial>
    <visual>
      <origin xyz="0 0 0" rpy="0 0 0"/>
      <geometry>
        <mesh filename="coacd_convex_piece_35.obj" scale="1.0000E+00 1.0000E+00 1.0000E+00"/>
      </geometry>
      <material name="">
        <color rgba="7.50E-01 7.50E-01 7.50E-01 1"/>
      </material>
    </visual>
    <collision>
      <origin xyz="0 0 0" rpy="0 0 0"/>
      <geometry>
        <mesh filename="coacd_convex_piece_35.obj" scale="1.0000E+00 1.0000E+00 1.0000E+00"/>
      </geometry>
    </collision>
  </link>
  <joint name="link_coacd_convex_piece_35_joint" type="fixed">
    <origin xyz="0 0 0" rpy="0 0 0"/>
    <parent link="link_coacd_convex_piece_34"/>
    <child link="link_coacd_convex_piece_35"/>
  </joint>
  <link name="link_coacd_convex_piece_36">
    <inertial>
      <origin xyz="0 0 0" rpy="0 0 0"/>
      <inertia ixx="1.10E-03" ixy="2.56E-04" ixz="-2.36E-05" iyy="1.24E-04" iyz="9.98E-05" izz="1.15E-03"/>
    </inertial>
    <visual>
      <origin xyz="0 0 0" rpy="0 0 0"/>
      <geometry>
        <mesh filename="coacd_convex_piece_36.obj" scale="1.0000E+00 1.0000E+00 1.0000E+00"/>
      </geometry>
      <material name="">
        <color rgba="7.50E-01 7.50E-01 7.50E-01 1"/>
      </material>
    </visual>
    <collision>
      <origin xyz="0 0 0" rpy="0 0 0"/>
      <geometry>
        <mesh filename="coacd_convex_piece_36.obj" scale="1.0000E+00 1.0000E+00 1.0000E+00"/>
      </geometry>
    </collision>
  </link>
  <joint name="link_coacd_convex_piece_36_joint" type="fixed">
    <origin xyz="0 0 0" rpy="0 0 0"/>
    <parent link="link_coacd_convex_piece_35"/>
    <child link="link_coacd_convex_piece_36"/>
  </joint>
  <link name="link_coacd_convex_piece_37">
    <inertial>
      <origin xyz="0 0 0" rpy="0 0 0"/>
      <inertia ixx="1.75E-04" ixy="-1.80E-04" ixz="1.01E-04" iyy="3.17E-04" iyz="6.88E-05" izz="4.18E-04"/>
    </inertial>
    <visual>
      <origin xyz="0 0 0" rpy="0 0 0"/>
      <geometry>
        <mesh filename="coacd_convex_piece_37.obj" scale="1.0000E+00 1.0000E+00 1.0000E+00"/>
      </geometry>
      <material name="">
        <color rgba="7.50E-01 7.50E-01 7.50E-01 1"/>
      </material>
    </visual>
    <collision>
      <origin xyz="0 0 0" rpy="0 0 0"/>
      <geometry>
        <mesh filename="coacd_convex_piece_37.obj" scale="1.0000E+00 1.0000E+00 1.0000E+00"/>
      </geometry>
    </collision>
  </link>
  <joint name="link_coacd_convex_piece_37_joint" type="fixed">
    <origin xyz="0 0 0" rpy="0 0 0"/>
    <parent link="link_coacd_convex_piece_36"/>
    <child link="link_coacd_convex_piece_37"/>
  </joint>
  <link name="link_coacd_convex_piece_38">
    <inertial>
      <origin xyz="0 0 0" rpy="0 0 0"/>
      <inertia ixx="2.73E-04" ixy="1.94E-08" ixz="5.57E-06" iyy="2.73E-04" iyz="-1.64E-06" izz="1.58E-05"/>
    </inertial>
    <visual>
      <origin xyz="0 0 0" rpy="0 0 0"/>
      <geometry>
        <mesh filename="coacd_convex_piece_38.obj" scale="1.0000E+00 1.0000E+00 1.0000E+00"/>
      </geometry>
      <material name="">
        <color rgba="7.50E-01 7.50E-01 7.50E-01 1"/>
      </material>
    </visual>
    <collision>
      <origin xyz="0 0 0" rpy="0 0 0"/>
      <geometry>
        <mesh filename="coacd_convex_piece_38.obj" scale="1.0000E+00 1.0000E+00 1.0000E+00"/>
      </geometry>
    </collision>
  </link>
  <joint name="link_coacd_convex_piece_38_joint" type="fixed">
    <origin xyz="0 0 0" rpy="0 0 0"/>
    <parent link="link_coacd_convex_piece_37"/>
    <child link="link_coacd_convex_piece_38"/>
  </joint>
  <link name="link_coacd_convex_piece_39">
    <inertial>
      <origin xyz="0 0 0" rpy="0 0 0"/>
      <inertia ixx="9.36E-04" ixy="-1.37E-04" ixz="7.70E-06" iyy="2.93E-05" iyz="5.10E-05" izz="9.60E-04"/>
    </inertial>
    <visual>
      <origin xyz="0 0 0" rpy="0 0 0"/>
      <geometry>
        <mesh filename="coacd_convex_piece_39.obj" scale="1.0000E+00 1.0000E+00 1.0000E+00"/>
      </geometry>
      <material name="">
        <color rgba="7.50E-01 7.50E-01 7.50E-01 1"/>
      </material>
    </visual>
    <collision>
      <origin xyz="0 0 0" rpy="0 0 0"/>
      <geometry>
        <mesh filename="coacd_convex_piece_39.obj" scale="1.0000E+00 1.0000E+00 1.0000E+00"/>
      </geometry>
    </collision>
  </link>
  <joint name="link_coacd_convex_piece_39_joint" type="fixed">
    <origin xyz="0 0 0" rpy="0 0 0"/>
    <parent link="link_coacd_convex_piece_38"/>
    <child link="link_coacd_convex_piece_39"/>
  </joint>
  <link name="link_coacd_convex_piece_40">
    <inertial>
      <origin xyz="0 0 0" rpy="0 0 0"/>
      <inertia ixx="2.47E-03" ixy="-4.11E-04" ixz="-7.07E-04" iyy="2.39E-03" iyz="-8.47E-04" izz="2.54E-03"/>
    </inertial>
    <visual>
      <origin xyz="0 0 0" rpy="0 0 0"/>
      <geometry>
        <mesh filename="coacd_convex_piece_40.obj" scale="1.0000E+00 1.0000E+00 1.0000E+00"/>
      </geometry>
      <material name="">
        <color rgba="7.50E-01 7.50E-01 7.50E-01 1"/>
      </material>
    </visual>
    <collision>
      <origin xyz="0 0 0" rpy="0 0 0"/>
      <geometry>
        <mesh filename="coacd_convex_piece_40.obj" scale="1.0000E+00 1.0000E+00 1.0000E+00"/>
      </geometry>
    </collision>
  </link>
  <joint name="link_coacd_convex_piece_40_joint" type="fixed">
    <origin xyz="0 0 0" rpy="0 0 0"/>
    <parent link="link_coacd_convex_piece_39"/>
    <child link="link_coacd_convex_piece_40"/>
  </joint>
  <link name="link_coacd_convex_piece_41">
    <inertial>
      <origin xyz="0 0 0" rpy="0 0 0"/>
      <inertia ixx="4.69E-04" ixy="2.38E-05" ixz="7.75E-06" iyy="5.60E-05" iyz="-1.34E-04" izz="4.40E-04"/>
    </inertial>
    <visual>
      <origin xyz="0 0 0" rpy="0 0 0"/>
      <geometry>
        <mesh filename="coacd_convex_piece_41.obj" scale="1.0000E+00 1.0000E+00 1.0000E+00"/>
      </geometry>
      <material name="">
        <color rgba="7.50E-01 7.50E-01 7.50E-01 1"/>
      </material>
    </visual>
    <collision>
      <origin xyz="0 0 0" rpy="0 0 0"/>
      <geometry>
        <mesh filename="coacd_convex_piece_41.obj" scale="1.0000E+00 1.0000E+00 1.0000E+00"/>
      </geometry>
    </collision>
  </link>
  <joint name="link_coacd_convex_piece_41_joint" type="fixed">
    <origin xyz="0 0 0" rpy="0 0 0"/>
    <parent link="link_coacd_convex_piece_40"/>
    <child link="link_coacd_convex_piece_41"/>
  </joint>
  <link name="link_coacd_convex_piece_42">
    <inertial>
      <origin xyz="0 0 0" rpy="0 0 0"/>
      <inertia ixx="6.69E-05" ixy="-6.14E-05" ixz="-1.30E-04" iyy="4.66E-04" iyz="-1.95E-05" izz="4.52E-04"/>
    </inertial>
    <visual>
      <origin xyz="0 0 0" rpy="0 0 0"/>
      <geometry>
        <mesh filename="coacd_convex_piece_42.obj" scale="1.0000E+00 1.0000E+00 1.0000E+00"/>
      </geometry>
      <material name="">
        <color rgba="7.50E-01 7.50E-01 7.50E-01 1"/>
      </material>
    </visual>
    <collision>
      <origin xyz="0 0 0" rpy="0 0 0"/>
      <geometry>
        <mesh filename="coacd_convex_piece_42.obj" scale="1.0000E+00 1.0000E+00 1.0000E+00"/>
      </geometry>
    </collision>
  </link>
  <joint name="link_coacd_convex_piece_42_joint" type="fixed">
    <origin xyz="0 0 0" rpy="0 0 0"/>
    <parent link="link_coacd_convex_piece_41"/>
    <child link="link_coacd_convex_piece_42"/>
  </joint>
  <link name="link_coacd_convex_piece_43">
    <inertial>
      <origin xyz="0 0 0" rpy="0 0 0"/>
      <inertia ixx="3.48E-04" ixy="-2.18E-04" ixz="-8.72E-05" iyy="2.33E-04" iyz="-1.13E-04" izz="4.94E-04"/>
    </inertial>
    <visual>
      <origin xyz="0 0 0" rpy="0 0 0"/>
      <geometry>
        <mesh filename="coacd_convex_piece_43.obj" scale="1.0000E+00 1.0000E+00 1.0000E+00"/>
      </geometry>
      <material name="">
        <color rgba="7.50E-01 7.50E-01 7.50E-01 1"/>
      </material>
    </visual>
    <collision>
      <origin xyz="0 0 0" rpy="0 0 0"/>
      <geometry>
        <mesh filename="coacd_convex_piece_43.obj" scale="1.0000E+00 1.0000E+00 1.0000E+00"/>
      </geometry>
    </collision>
  </link>
  <joint name="link_coacd_convex_piece_43_joint" type="fixed">
    <origin xyz="0 0 0" rpy="0 0 0"/>
    <parent link="link_coacd_convex_piece_42"/>
    <child link="link_coacd_convex_piece_43"/>
  </joint>
</robot>
